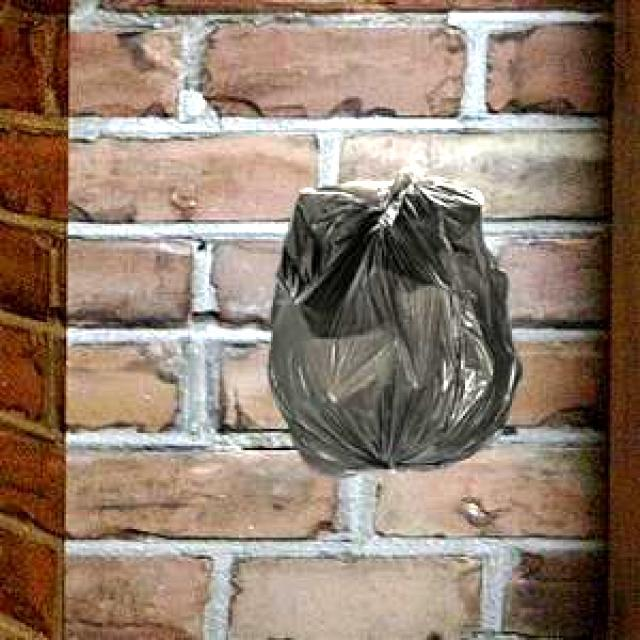Garbage_Bag: (266, 165, 520, 477)
